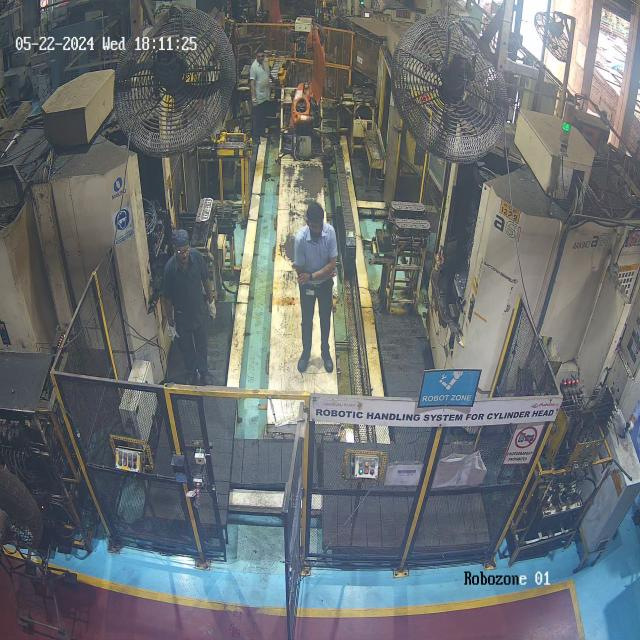person: (158, 228, 220, 392), (296, 196, 352, 377), (247, 44, 280, 152)
